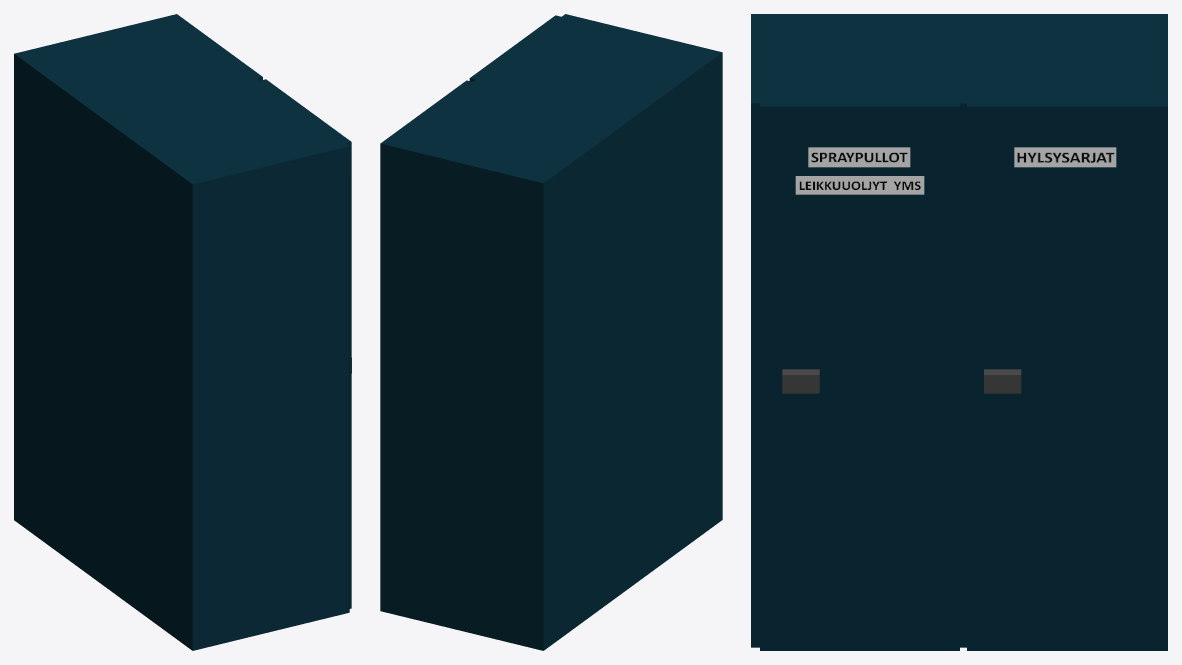
File: Elec_blue cupboard.fbx
3 renders of one model, left to right at view 1: azimuth 30°, elevation 25°; view 2: azimuth 150°, elevation 25°; view 3: azimuth 270°, elevation 25°, orthographic. The views are drawn at different scales.
Parts seen in each view (by area): view 1: Cube; view 2: Cube; view 3: Cube.
Boxes of the visible parts, x1,y1,x2,y2 form: Cube: (14,14,351,650); Cube: (380,14,722,650); Cube: (751,14,1167,650).
Bounding box in the file's own units: 77.43 × 200 × 139.
Materials: 3 (1 with a texture image).
